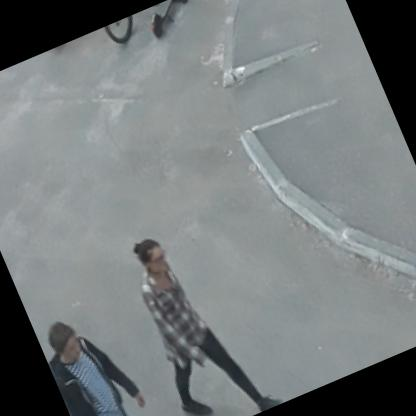Human Body: (107, 202, 292, 415), (32, 295, 172, 415)
